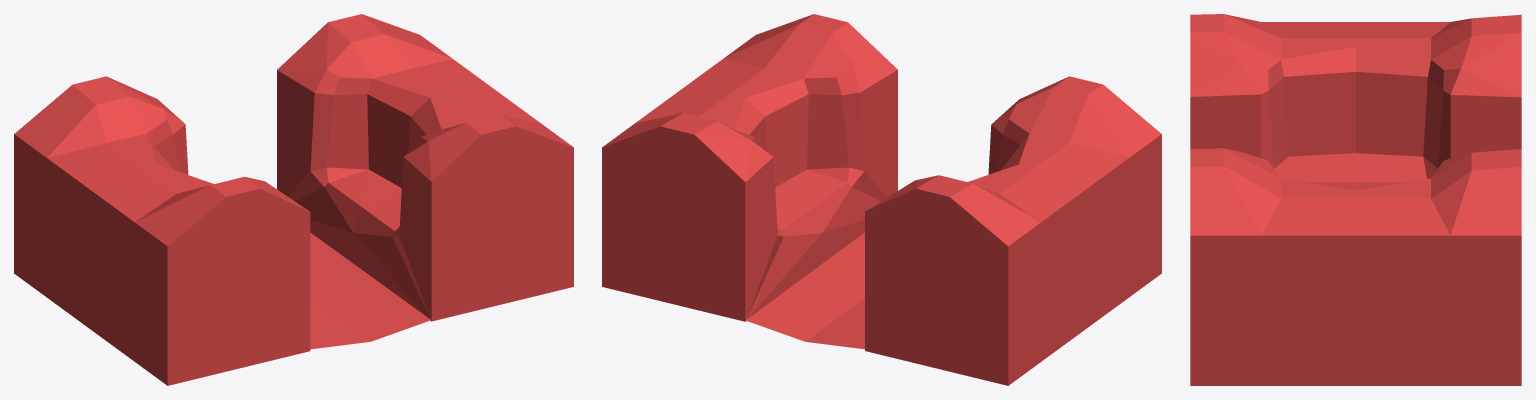
The model's file is Ground_Firebay_Wood_Double_B_COL.fbx.
3 renders of one model, left to right at view 1: azimuth 30°, elevation 25°; view 2: azimuth 150°, elevation 25°; view 3: azimuth 270°, elevation 25°, orthographic. The views are drawn at different scales.
Visible parts, largest first — view 1: Ground_Firebay_Wood_Double_B_COL; view 2: Ground_Firebay_Wood_Double_B_COL; view 3: Ground_Firebay_Wood_Double_B_COL.
Part boxes in pixels (x1,y1,x2,y2): Ground_Firebay_Wood_Double_B_COL: (14,14,573,385); Ground_Firebay_Wood_Double_B_COL: (602,14,1161,385); Ground_Firebay_Wood_Double_B_COL: (1190,14,1521,385).
Size of the model in its own units: 611 by 260 by 400.
